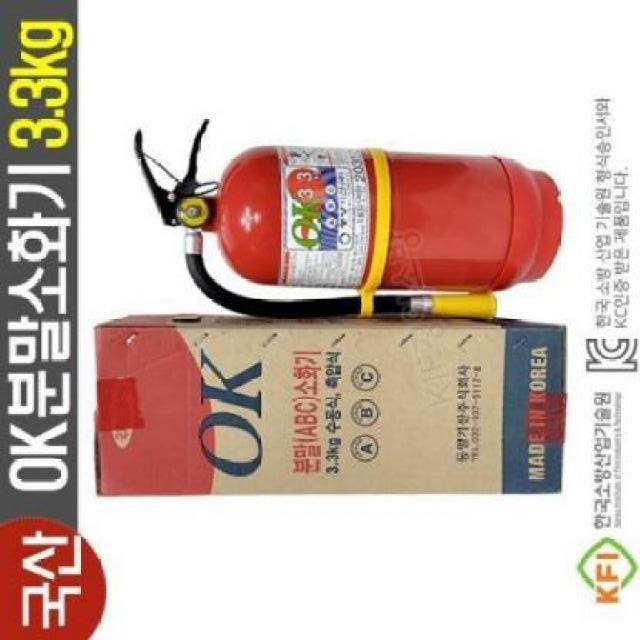fire extinguisher: (132, 118, 565, 322)
